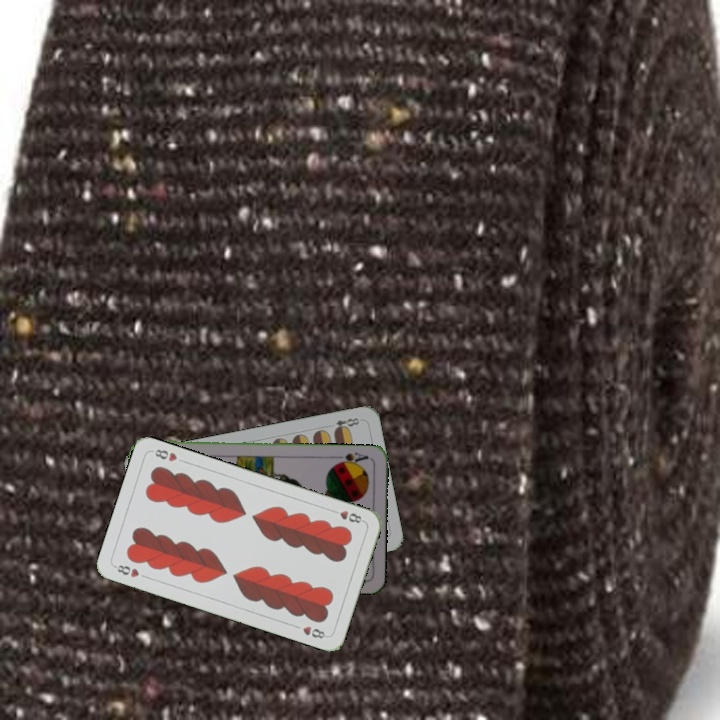E8: (330, 414, 364, 434)
H8: (327, 506, 367, 526), (110, 561, 142, 580)
SA: (331, 448, 371, 468)
